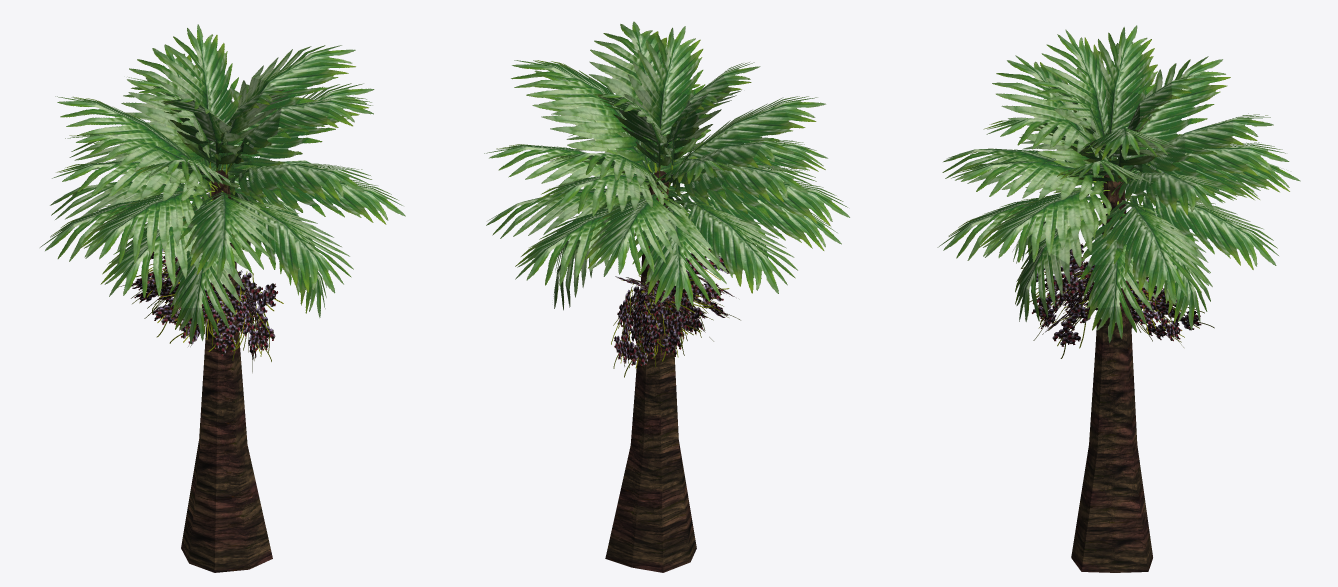
Rendered from Palmeira-jussara.fbx.
3 views of the same model, side by side, from view 1: azimuth 30°, elevation 25°; view 2: azimuth 150°, elevation 25°; view 3: azimuth 270°, elevation 25° (orthographic).
Visible parts, largest first — view 1: Plane.005; view 2: Plane.005; view 3: Plane.005.
Part boxes in pixels (bbox=[...]): Plane.005: bbox=[40, 24, 405, 572]; Plane.005: bbox=[484, 21, 849, 572]; Plane.005: bbox=[937, 25, 1300, 572].
Size of the model in its own units: 727 by 976 by 752.
